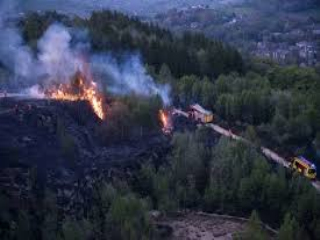fire: (51, 67, 109, 123), (160, 108, 177, 132)
smoke: (4, 24, 169, 97)
